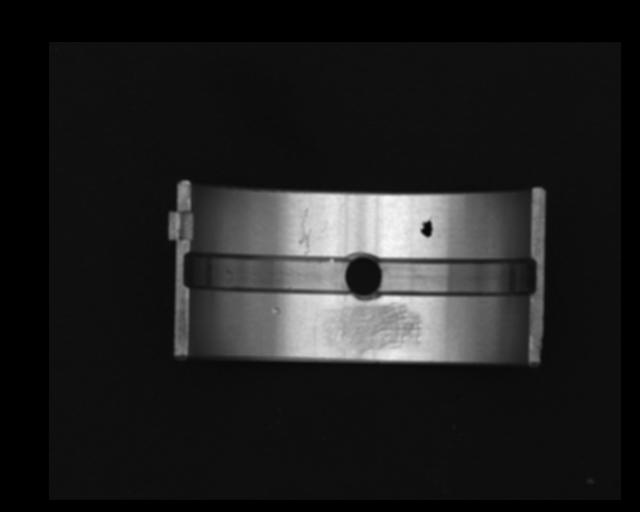blot: (419, 214, 434, 238)
bruise: (270, 305, 282, 315)
gap: (185, 250, 351, 296), (376, 256, 537, 297)
hole: (343, 251, 382, 300)
nick: (297, 205, 312, 255)
scratch: (320, 304, 423, 358)
